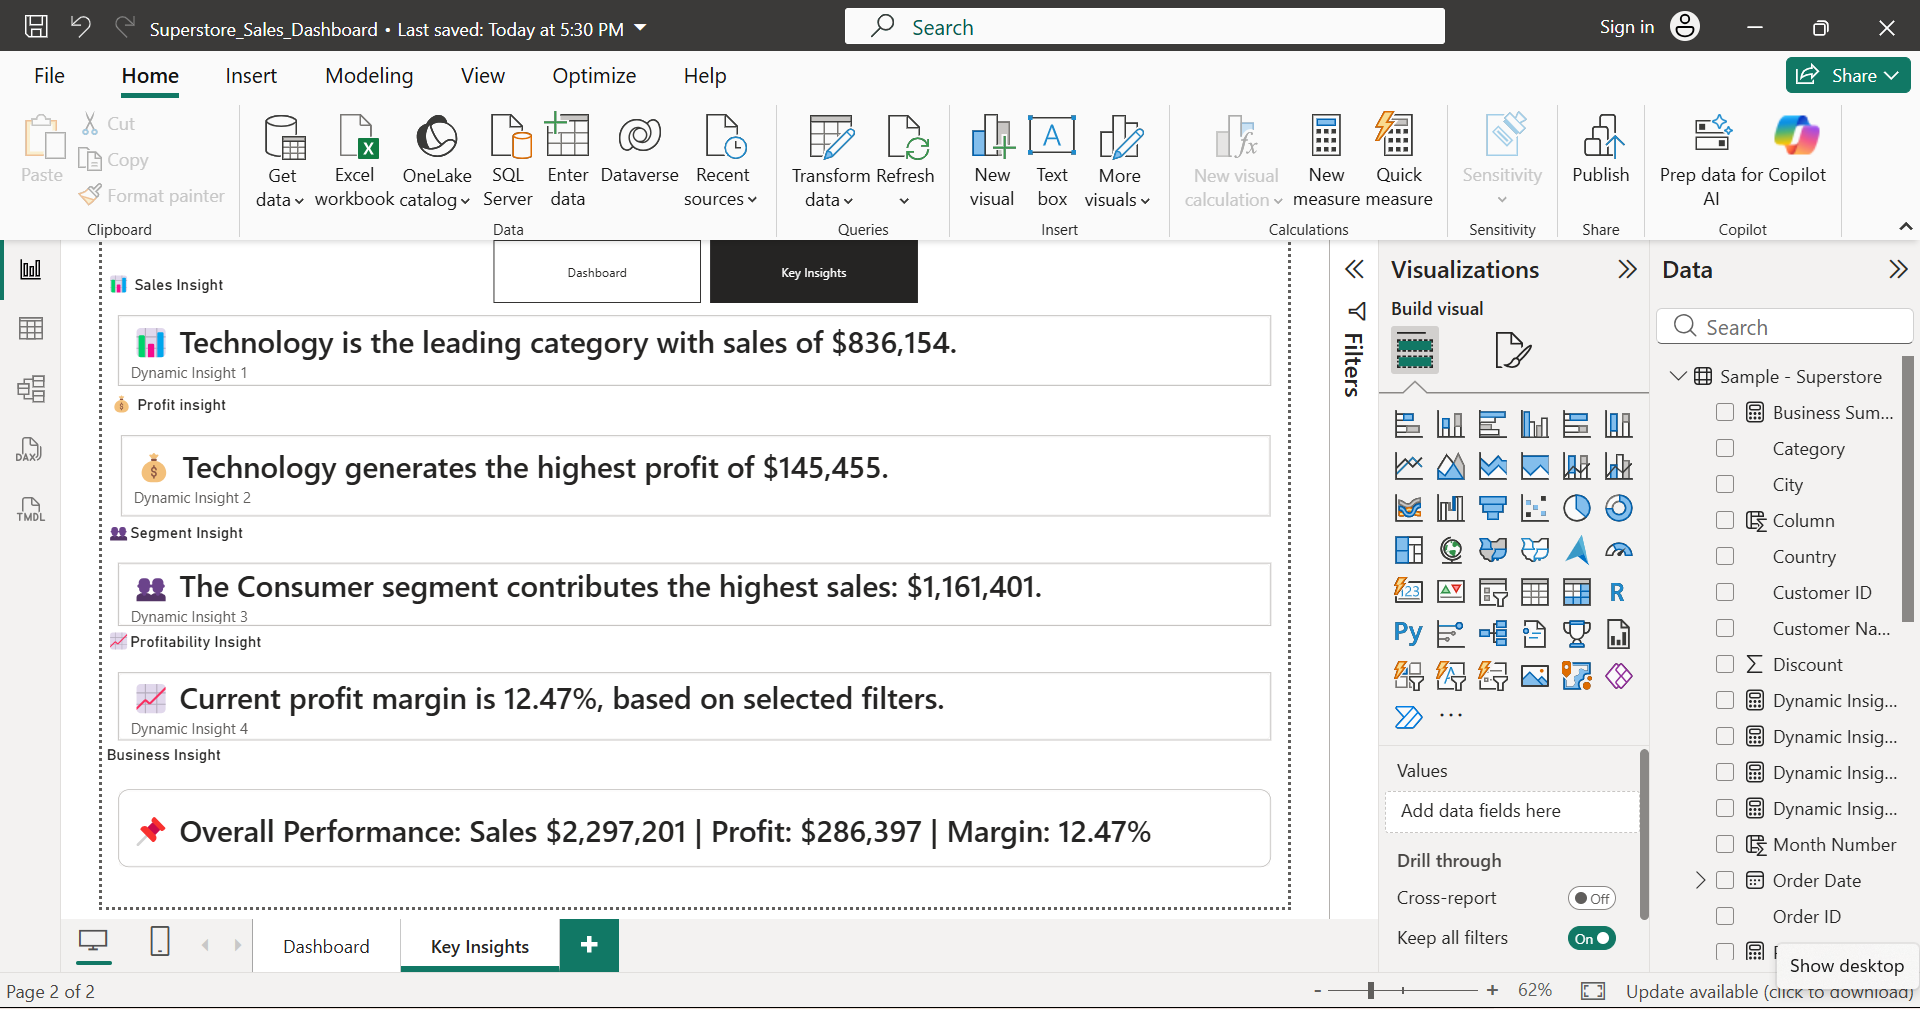

This screenshot's page, from the dashboard's own definition file:
{"tool":"powerbi","page":{"name":"Key Insights","canvas":[1280,720],"ordinal":1},"visuals":[{"type":"cardVisual","title":"📊 Sales Insight","fields":{"Data":["Sample - Superstore.Dynamic Insight 1"]},"box":[0,34,1279.2,140.9],"z":0},{"type":"cardVisual","title":"💰 Profit insight","fields":{"Data":["Sample - Superstore.Dynamic Insight 2"]},"box":[3.2,163.5,1276,152.2],"z":1000},{"type":"cardVisual","title":"👥Segment Insight","fields":{"Data":["Sample - Superstore.Dynamic Insight 3"]},"box":[0,301.2,1279.2,132.8],"z":2000},{"type":"cardVisual","title":"📈Profitability Insight","fields":{"Data":["Sample - Superstore.Dynamic Insight 4"]},"box":[0,419.4,1279.2,137.6],"z":3000},{"type":"cardVisual","title":"Business Insight","fields":{"Data":["Sample - Superstore.Dynamic Business Summary"]},"box":[0,545.7,1279.2,149],"z":4000},{"type":"pageNavigator","box":[422.6,0,459.9,68],"z":8001}]}

Visuals, with their boxes on the page's 1280x720 design canvas (x1, y1, x2, y2). These are canvas units, not pixel positions in the 1920x1009 screenshot, which may show the page scaled, cropped or inside an application window:
"📊 Sales Insight" cardVisual: region(0, 34, 1279, 175)
"💰 Profit insight" cardVisual: region(3, 164, 1279, 316)
"👥Segment Insight" cardVisual: region(0, 301, 1279, 434)
"📈Profitability Insight" cardVisual: region(0, 419, 1279, 557)
"Business Insight" cardVisual: region(0, 546, 1279, 695)
pageNavigator: region(423, 0, 882, 68)
